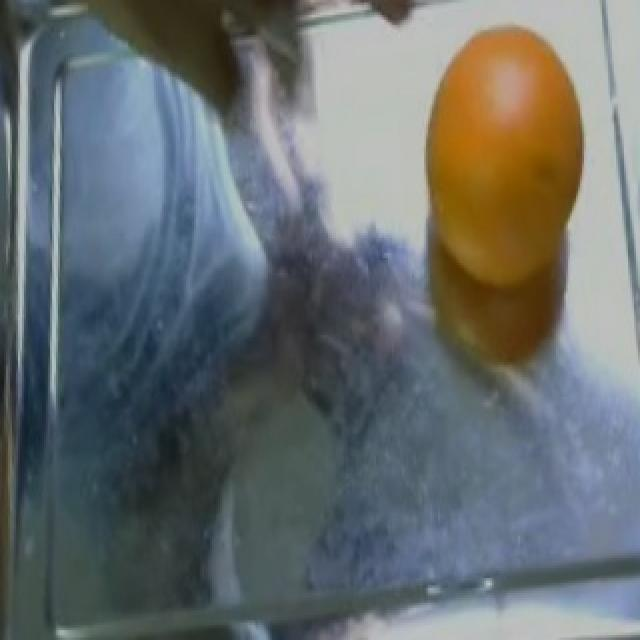Fruit: (410, 10, 596, 382)
